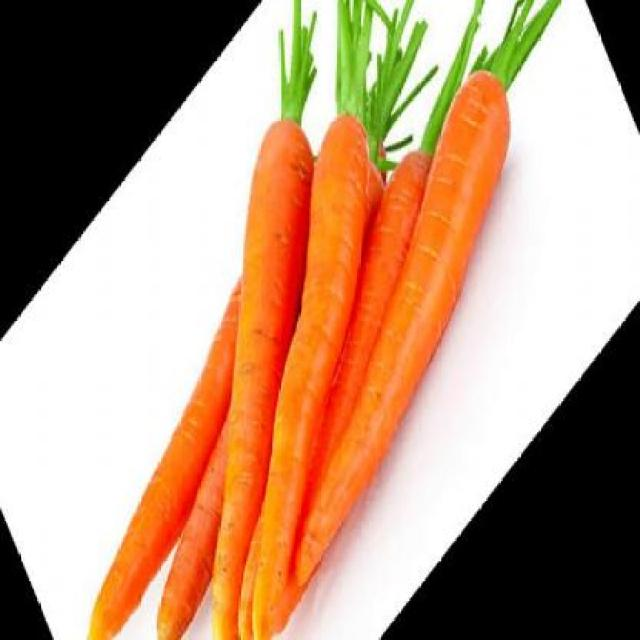carrot: (222, 50, 564, 588), (144, 97, 465, 638), (98, 99, 419, 638), (194, 132, 506, 632), (39, 271, 296, 638), (122, 408, 273, 638)
